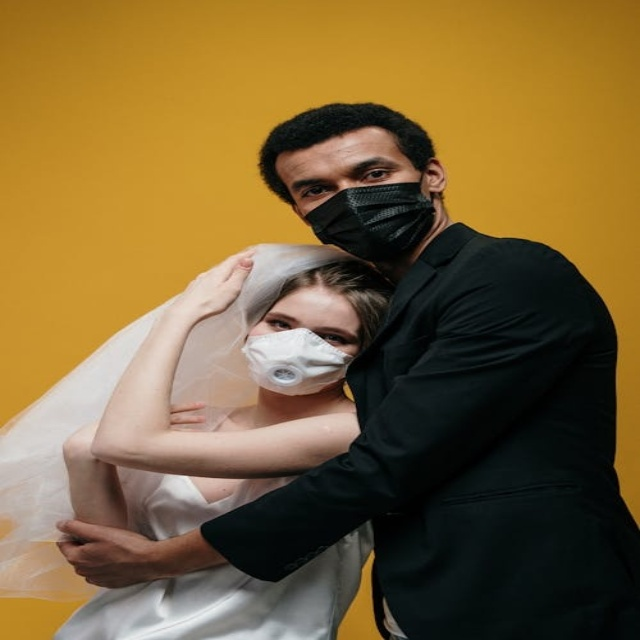Mascara: (305, 182, 437, 262), (240, 326, 355, 395)
Sin_gafas: (289, 154, 402, 202), (265, 309, 348, 350)
Sin_guantes: (54, 518, 173, 589), (157, 244, 261, 322)
